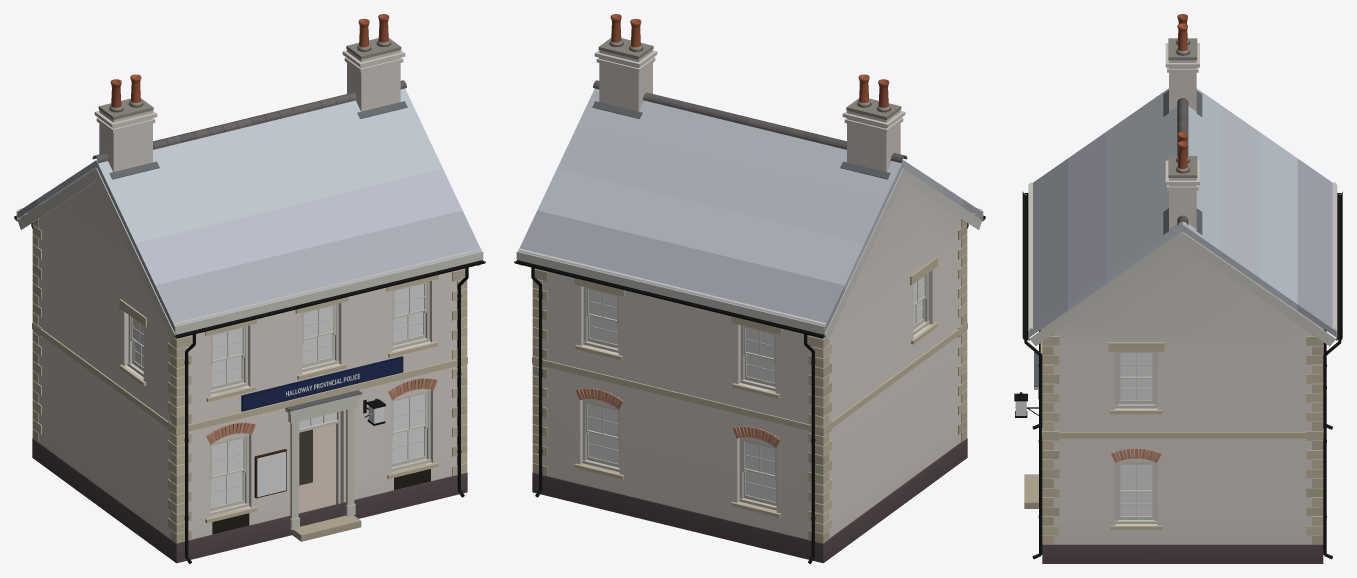
File: town_police_house_a_open.glb
3 renders of one model, left to right at view 1: azimuth 30°, elevation 25°; view 2: azimuth 150°, elevation 25°; view 3: azimuth 270°, elevation 25°, orthographic. The views are drawn at different scales.
Visible parts, largest first — view 1: body; view 2: body; view 3: body.
Part boxes in pixels (x1,y1,x2,y2): body: [14, 14, 485, 563]; body: [514, 14, 985, 563]; body: [1022, 14, 1342, 563].
Size of what is drawn, in the model's own units: 7.47 by 9.86 by 7.07.
